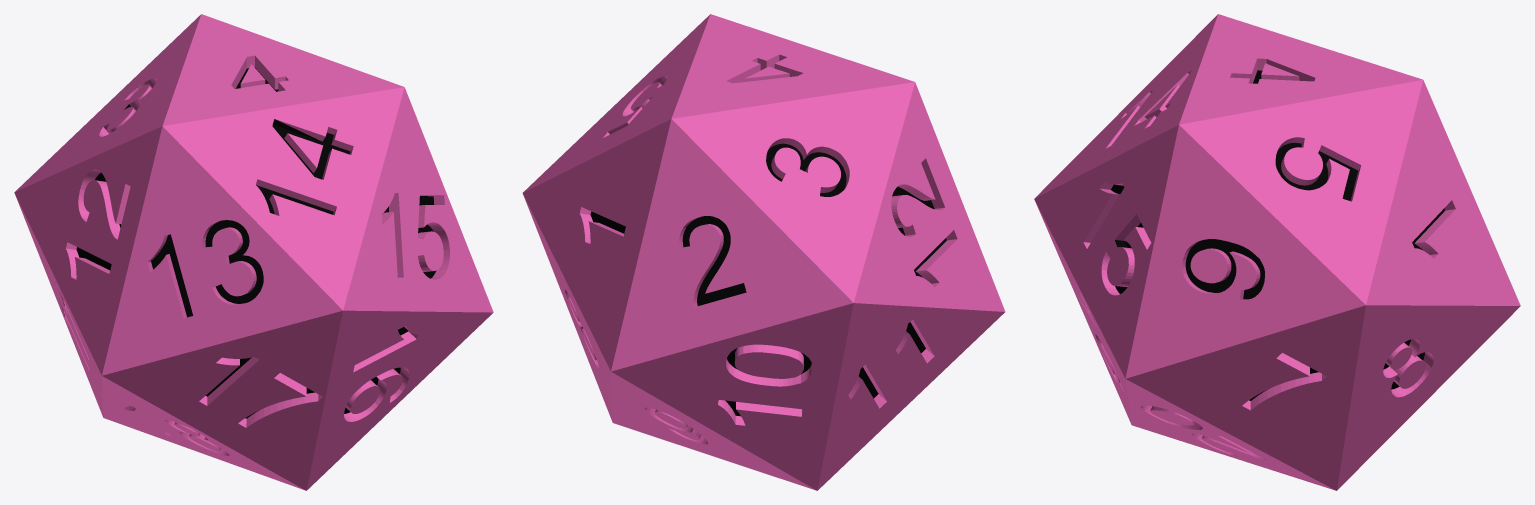
3 views of the same model, side by side, from view 1: azimuth 30°, elevation 25°; view 2: azimuth 150°, elevation 25°; view 3: azimuth 270°, elevation 25° (orthographic).
Visible parts, largest first — view 1: d20 v2; view 2: d20 v2; view 3: d20 v2.
Part boxes in pixels (left/top/right/bottom): d20 v2: left=14, top=14, right=493, bottom=490; d20 v2: left=522, top=14, right=1005, bottom=490; d20 v2: left=1034, top=14, right=1520, bottom=490.
Size of the model in its own units: 174 by 153 by 185.
